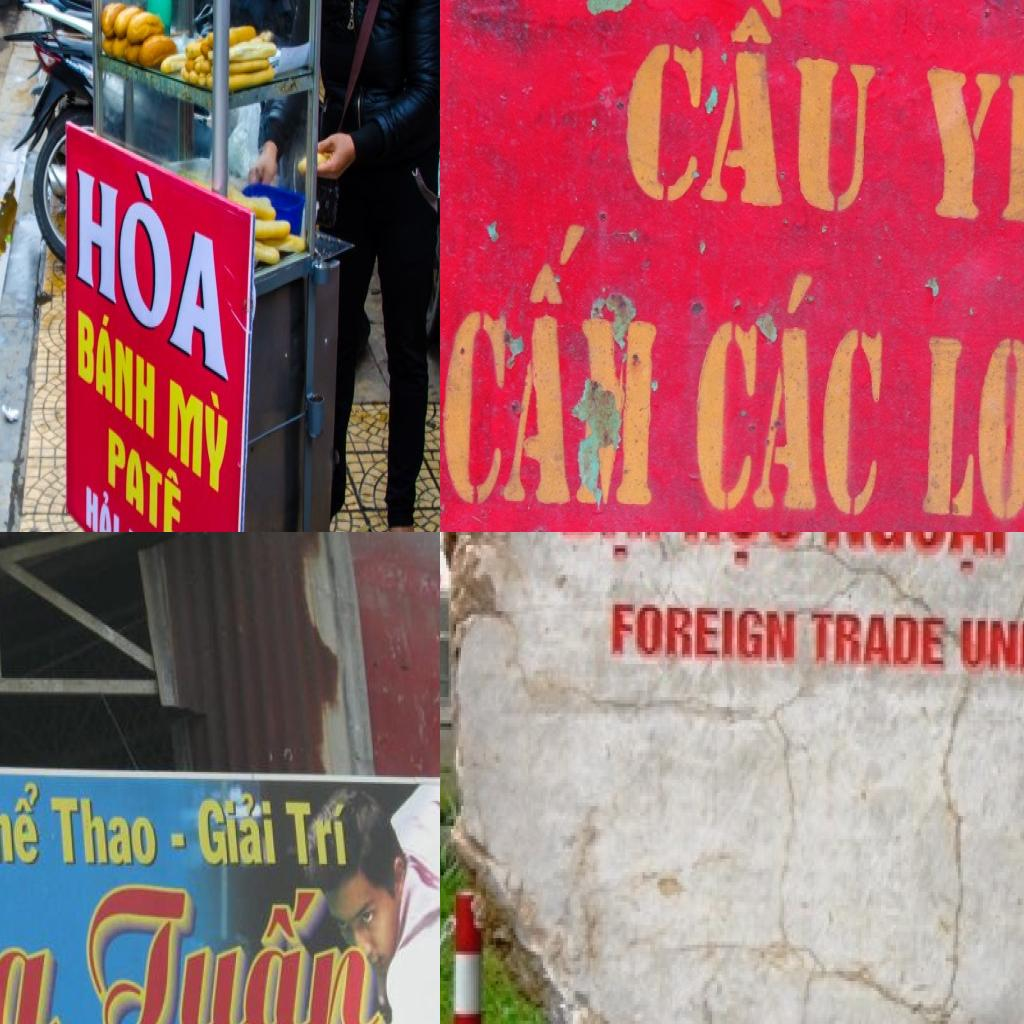text: (618, 0, 882, 217), (690, 264, 890, 520), (71, 133, 242, 400), (440, 218, 589, 507), (922, 21, 1024, 233), (920, 331, 1024, 532), (605, 588, 802, 671), (70, 292, 164, 449), (50, 794, 192, 871), (162, 357, 235, 503), (806, 608, 950, 680), (102, 416, 189, 532), (823, 532, 1015, 578), (194, 794, 278, 869), (679, 532, 811, 574), (281, 799, 352, 868), (550, 532, 672, 564), (0, 780, 44, 867), (81, 471, 123, 532)
